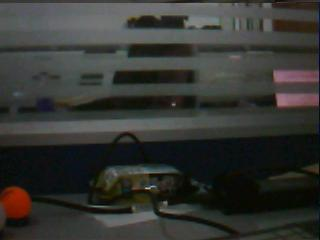oball: (3, 187, 31, 217)
